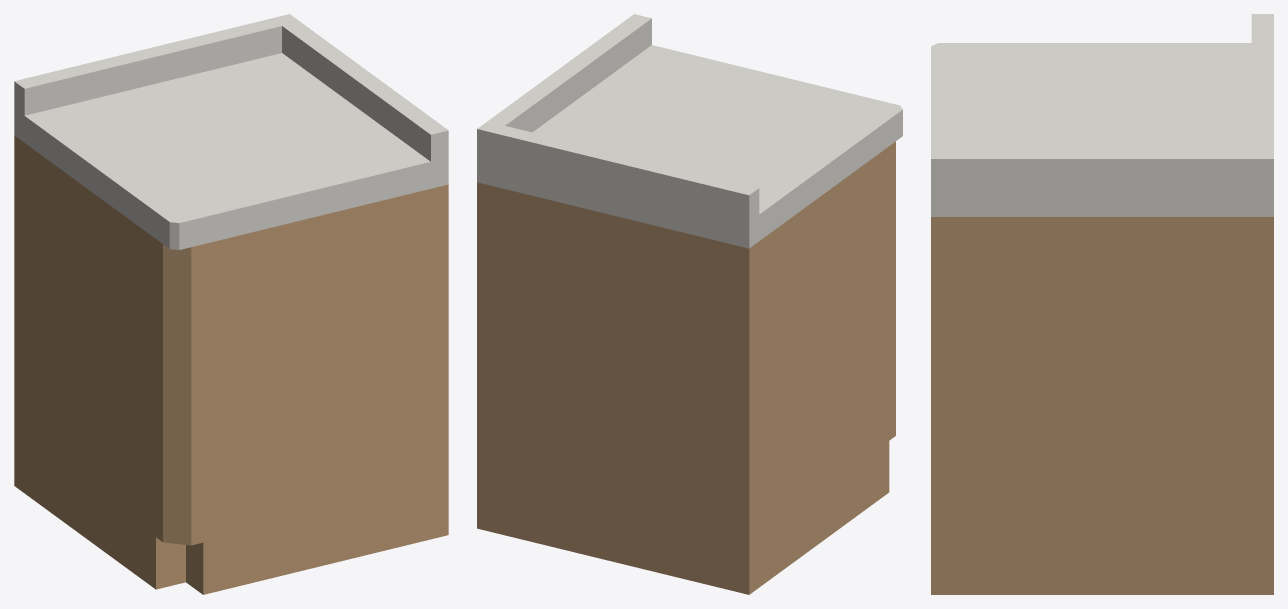
File: kitchen-base-corner.glb
3 renders of one model, left to right at view 1: azimuth 30°, elevation 25°; view 2: azimuth 150°, elevation 25°; view 3: azimuth 270°, elevation 25°, orthographic. The views are drawn at different scales.
Parts seen in each view (by area): view 1: kitchen-base-corner; view 2: kitchen-base-corner; view 3: kitchen-base-corner.
Part boxes in pixels (box(x1,y1,x2,y2)): kitchen-base-corner: box(14, 14, 448, 594); kitchen-base-corner: box(477, 14, 902, 594); kitchen-base-corner: box(931, 14, 1273, 594).
Size of the model in its own units: 0.62 by 0.87 by 0.62.
